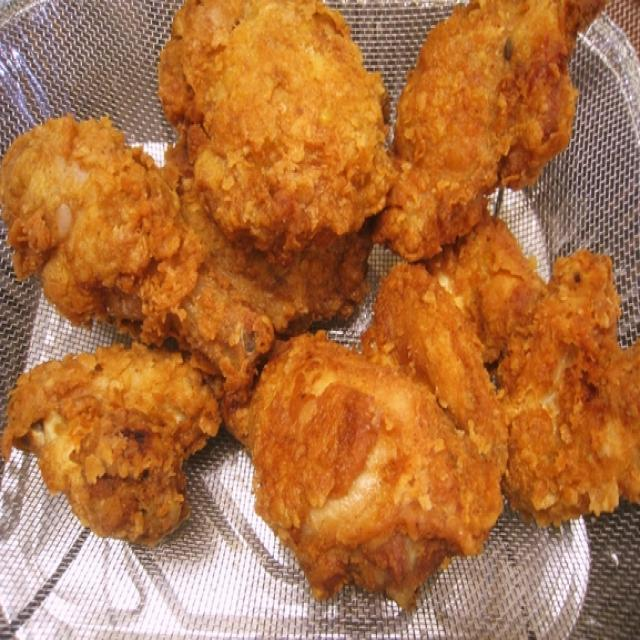鸡肉料理 含炸鸡: (18, 15, 608, 612)
